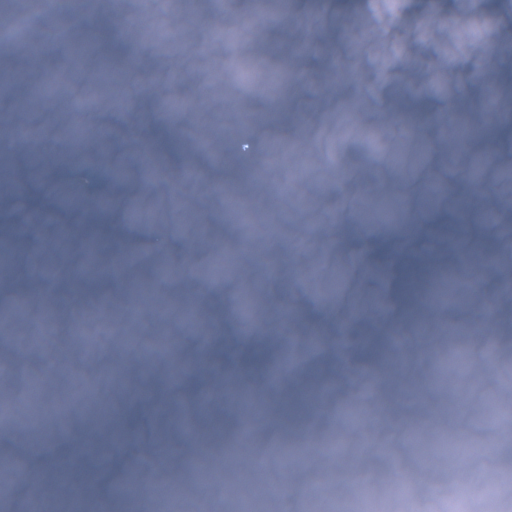Iceberg: (242, 144, 248, 150)
